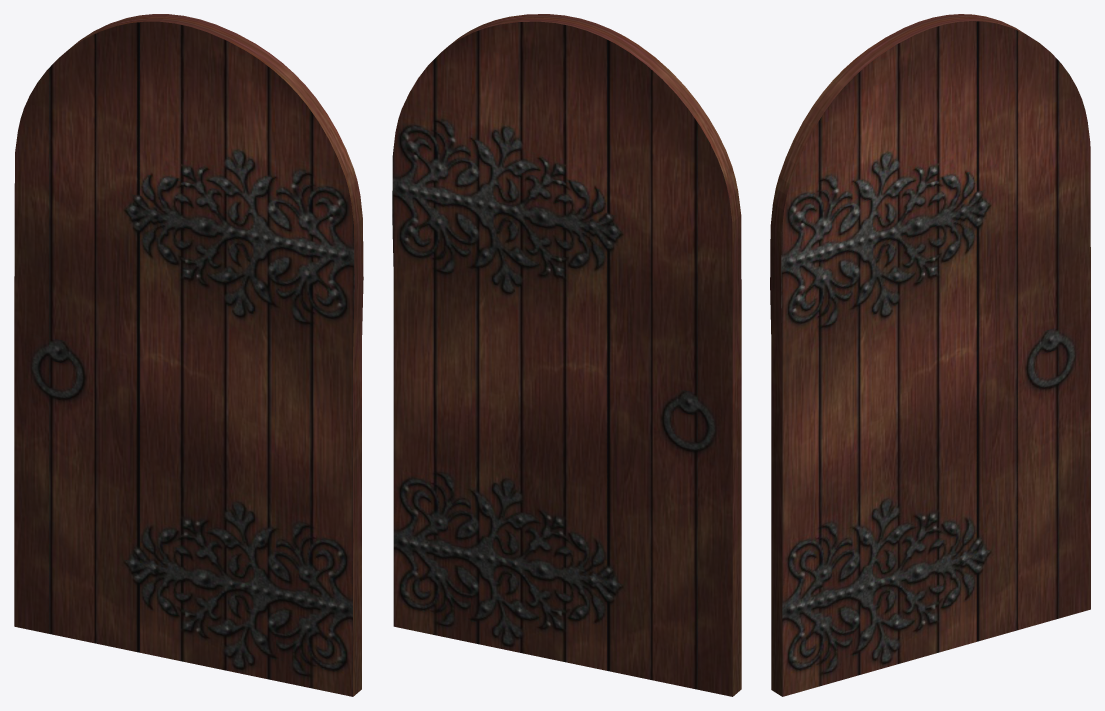
Rendered from door 17.obj.
3 renders of one model, left to right at view 1: azimuth 30°, elevation 25°; view 2: azimuth 210°, elevation 25°; view 3: azimuth 270°, elevation 25°, orthographic.
Visible parts, largest first — view 1: door_10:Mesh; view 2: door_10:Mesh; view 3: door_10:Mesh.
Boxes of the visible parts, x1,y1,x2,y2 form: door_10:Mesh: (14, 14, 363, 696); door_10:Mesh: (392, 14, 741, 696); door_10:Mesh: (770, 14, 1090, 696).
Bounding box in the file's own units: 38.88 × 120 × 55.61.
Materials: 1 (1 with a texture image).
